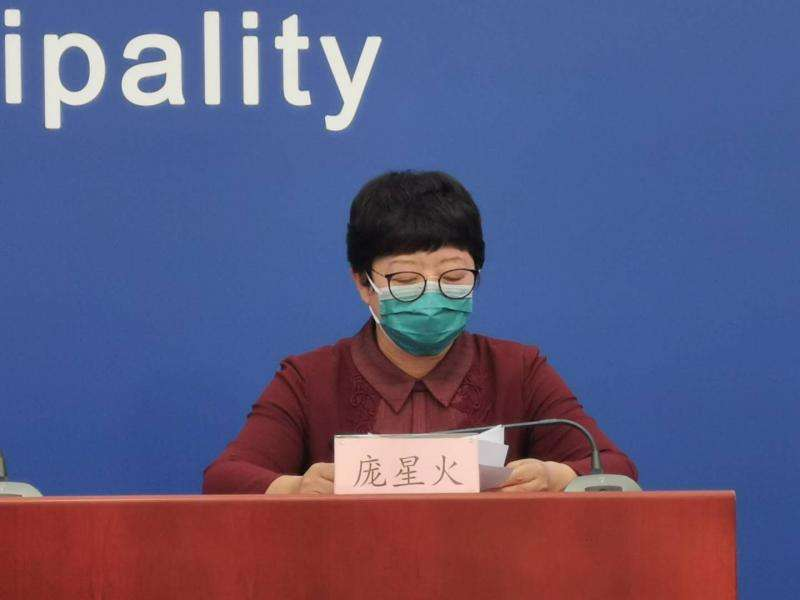mask: (373, 251, 479, 361)
